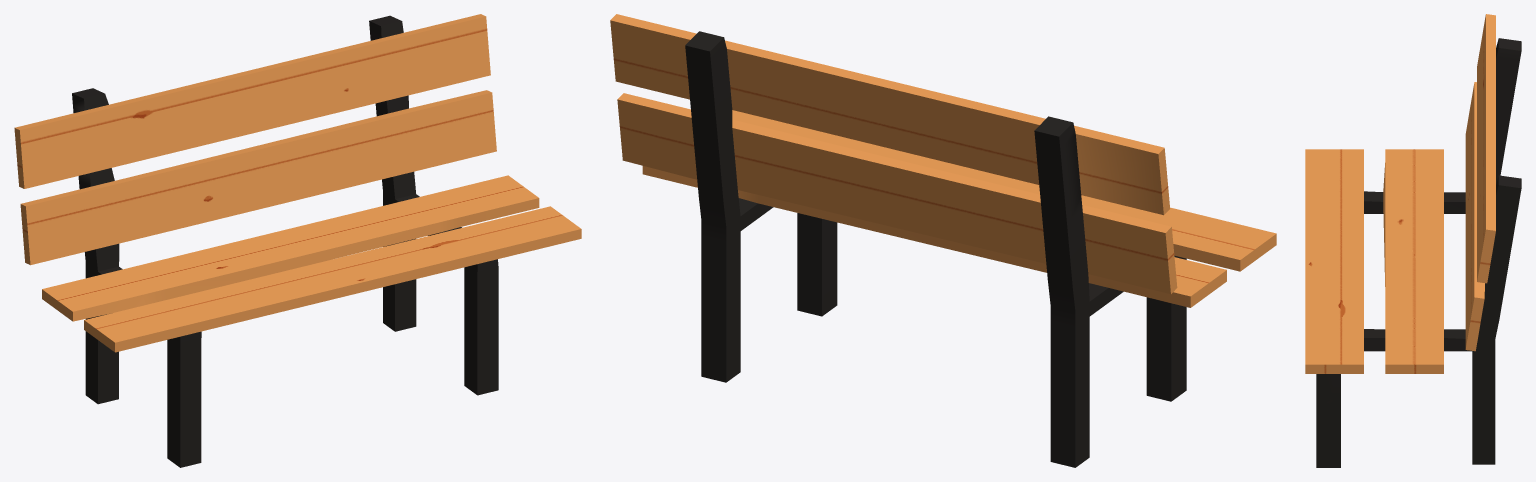
The model's file is ENV_park_Bench_v000.fbx.
3 views of the same model, side by side, from view 1: azimuth 30°, elevation 25°; view 2: azimuth 150°, elevation 25°; view 3: azimuth 270°, elevation 25° (orthographic). The views are drawn at different scales.
Visible parts, largest first — view 1: park_bench; view 2: park_bench; view 3: park_bench.
Part boxes in pixels (x1=…): park_bench: x1=14, y1=14, x2=581, y2=467; park_bench: x1=610, y1=14, x2=1276, y2=467; park_bench: x1=1305, y1=14, x2=1521, y2=467.
Size of the model in its own units: 1.71 by 1.04 by 0.7231.
